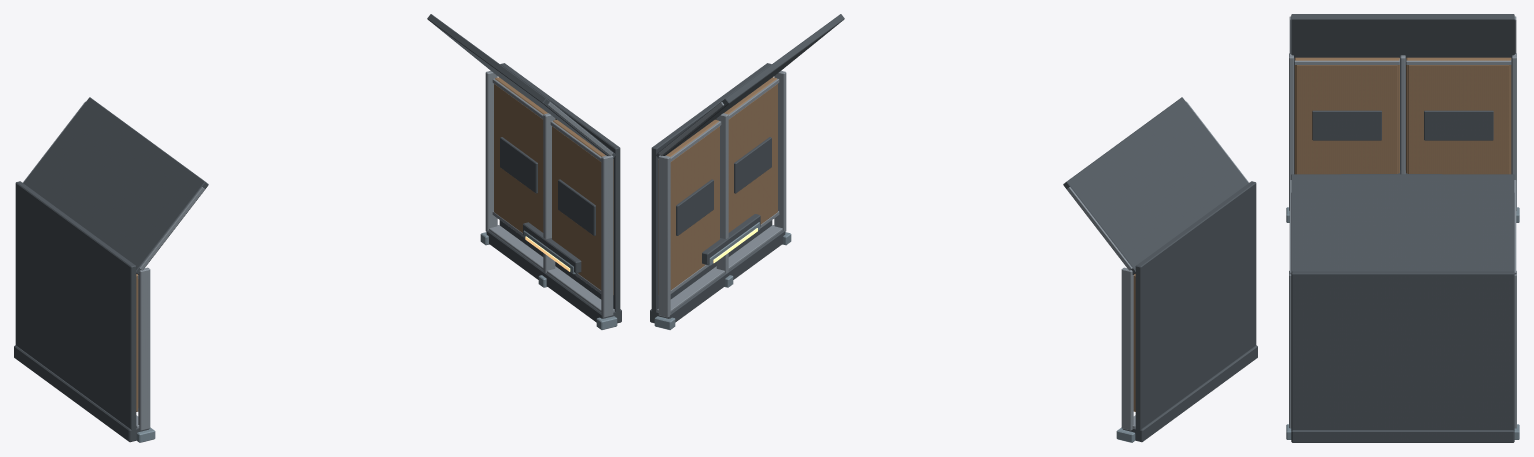
File: NA_GalleryWallBay_S_G02_LOD1.fbx
The picture shows the model from 3 angles, left to right: view 1: azimuth 30°, elevation 25°; view 2: azimuth 150°, elevation 25°; view 3: azimuth 270°, elevation 25°; orthographic projection. The views are drawn at different scales.
Visible parts, largest first — view 1: NA_GalleryWallBay_S_G02_LOD1; view 2: NA_GalleryWallBay_S_G02_LOD1; view 3: NA_GalleryWallBay_S_G02_LOD1.
Part boxes in pixels (<box>): NA_GalleryWallBay_S_G02_LOD1: <box>14,14,621,442</box>; NA_GalleryWallBay_S_G02_LOD1: <box>650,14,1257,442</box>; NA_GalleryWallBay_S_G02_LOD1: <box>1286,14,1519,442</box>.
Bounding box in the file's own units: 30.21 × 14.22 × 12.86.
